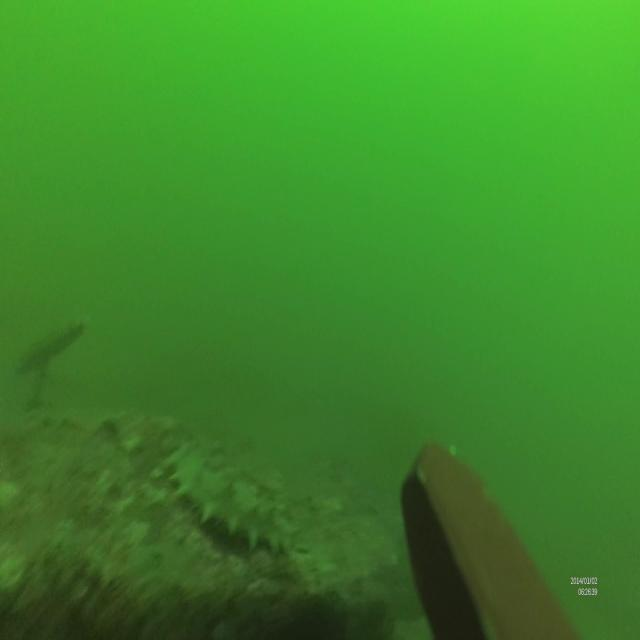holothurian: (162, 441, 296, 562)
